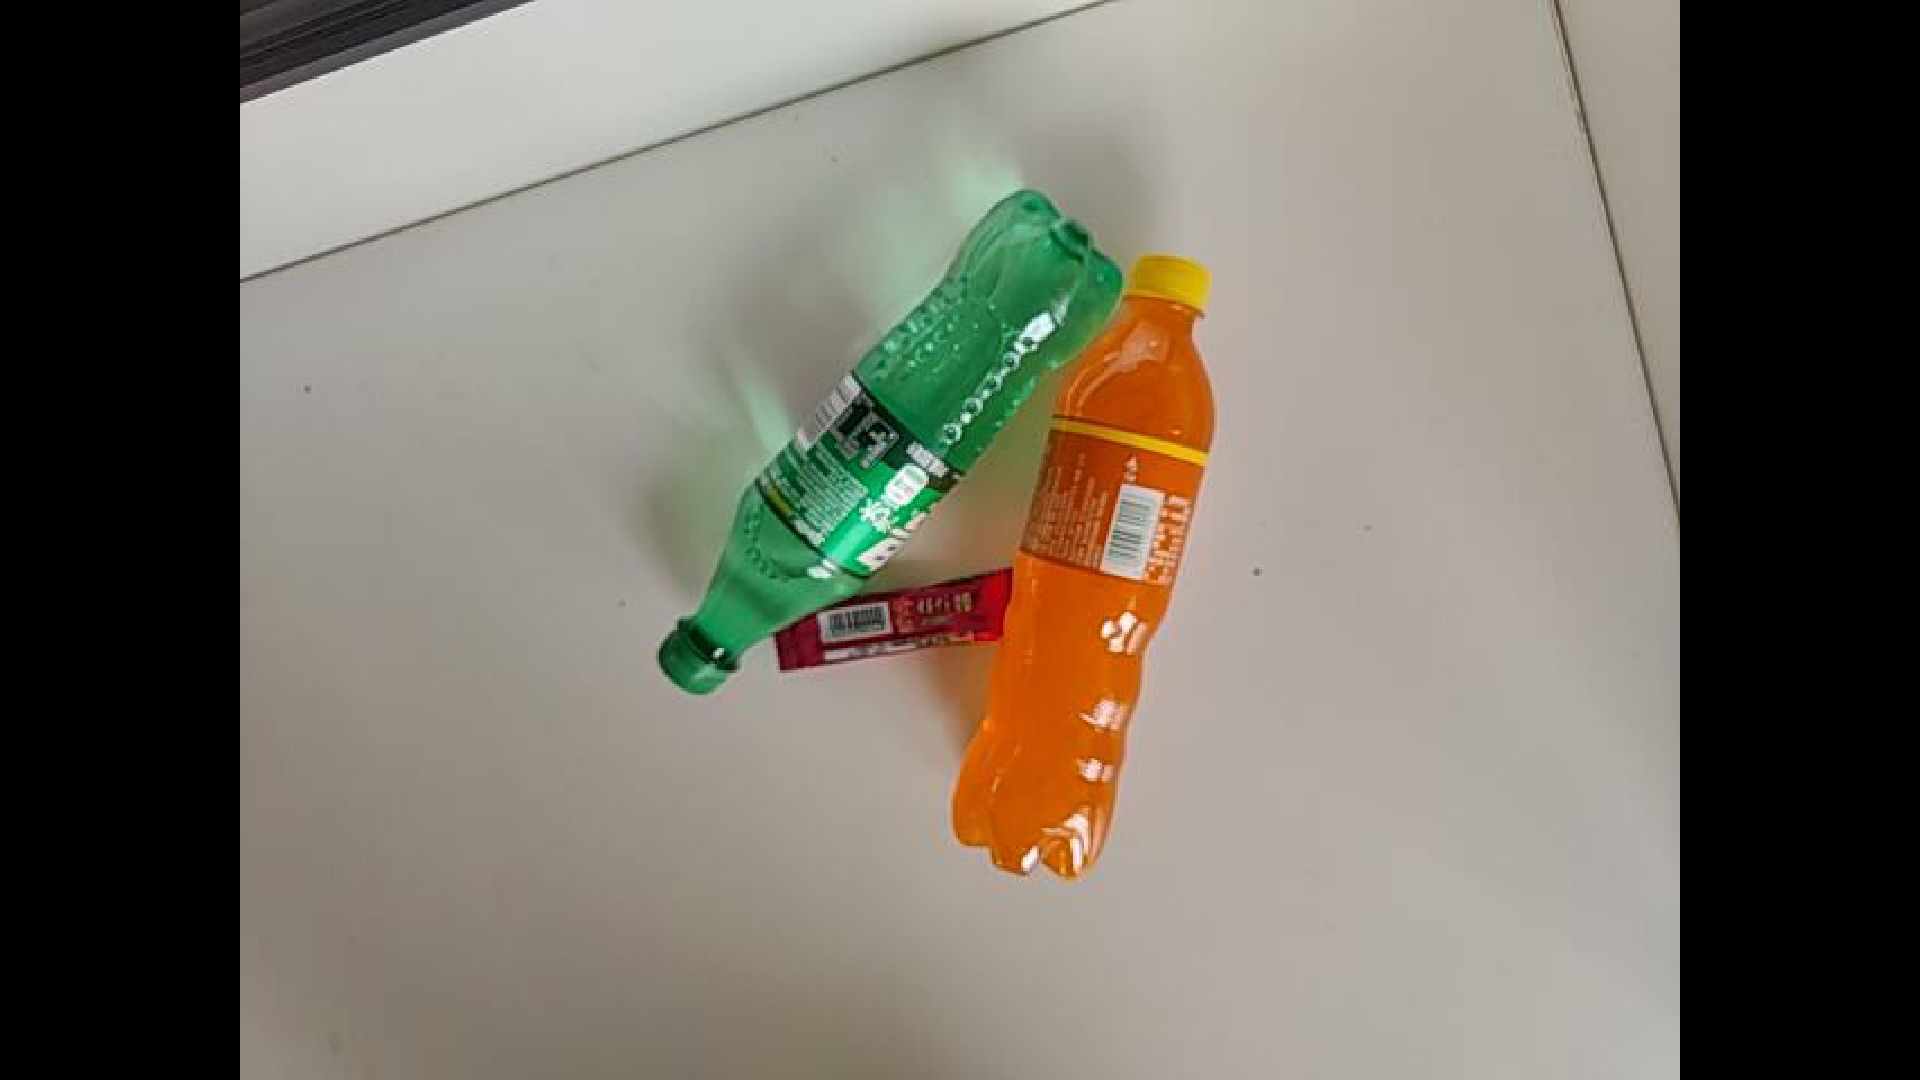fenta: (822, 231, 1254, 881)
sprite: (302, 169, 1147, 696)
sugar: (764, 582, 1034, 675)
